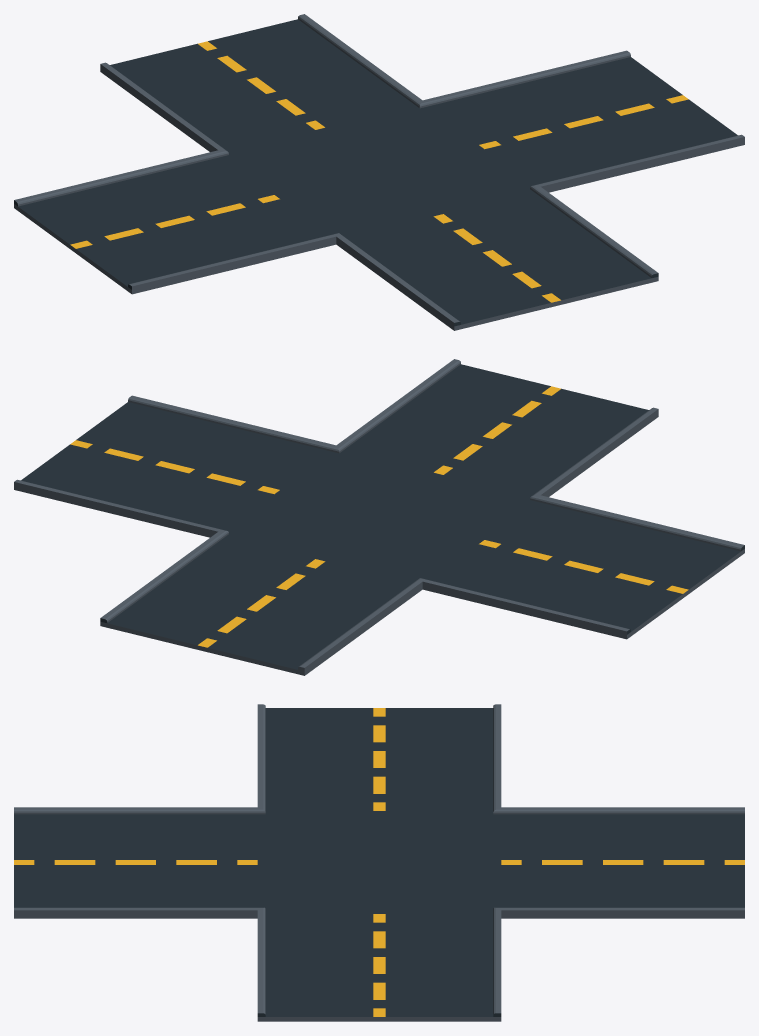
Rendered from +Intersection.fbx.
3 renders of one model, top to bottom at view 1: azimuth 30°, elevation 25°; view 2: azimuth 150°, elevation 25°; view 3: azimuth 270°, elevation 25°, orthographic. The views are drawn at different scales.
Visible parts, largest first — view 1: 4way-Intersection; view 2: 4way-Intersection; view 3: 4way-Intersection.
Part boxes in pixels (x1=…): 4way-Intersection: x1=14, y1=14, x2=744, y2=330; 4way-Intersection: x1=14, y1=359, x2=744, y2=675; 4way-Intersection: x1=14, y1=704, x2=744, y2=1021.
Bounding box in the file's own units: 7200 × 7200 × 90.
